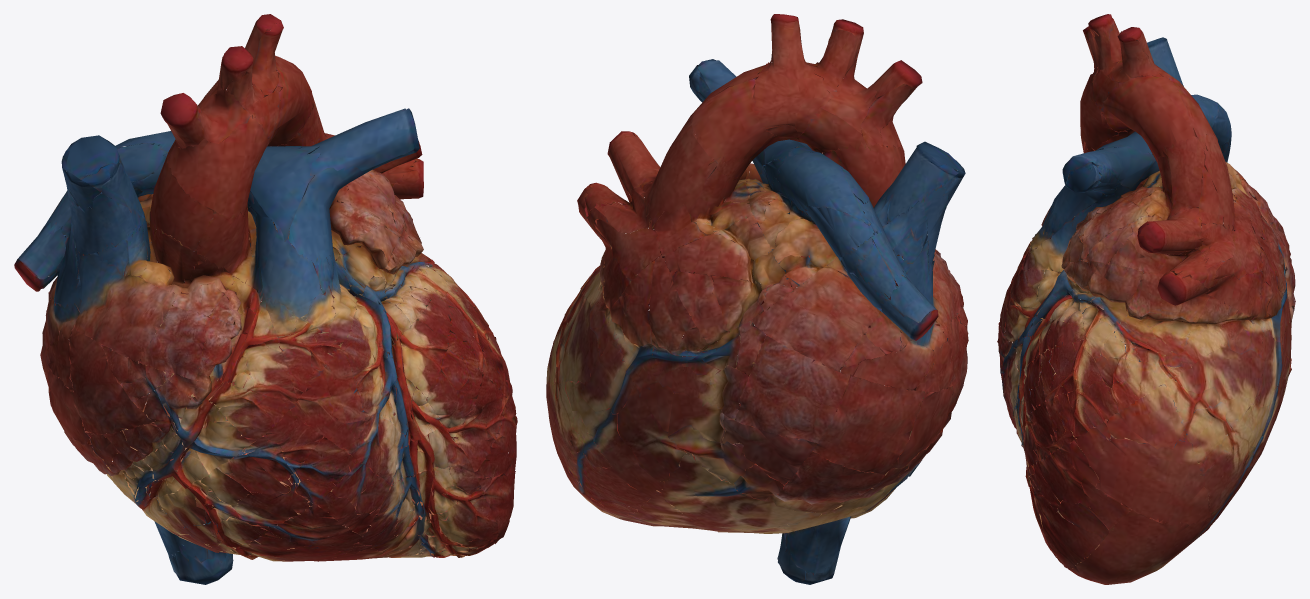
File: astronaut-heart.glb
3 views of the same model, side by side, from view 1: azimuth 30°, elevation 25°; view 2: azimuth 150°, elevation 25°; view 3: azimuth 270°, elevation 25° (orthographic). The views are drawn at different scales.
Visible parts, largest first — view 1: human-heart; view 2: human-heart; view 3: human-heart.
Boxes of the visible parts, x1,y1,x2,y2 form: human-heart: (14,14,517,584); human-heart: (546,14,968,584); human-heart: (997,14,1295,584).
Size of the model in its own units: 0.0984 by 0.1215 by 0.069.
1 material, 1 textured.
